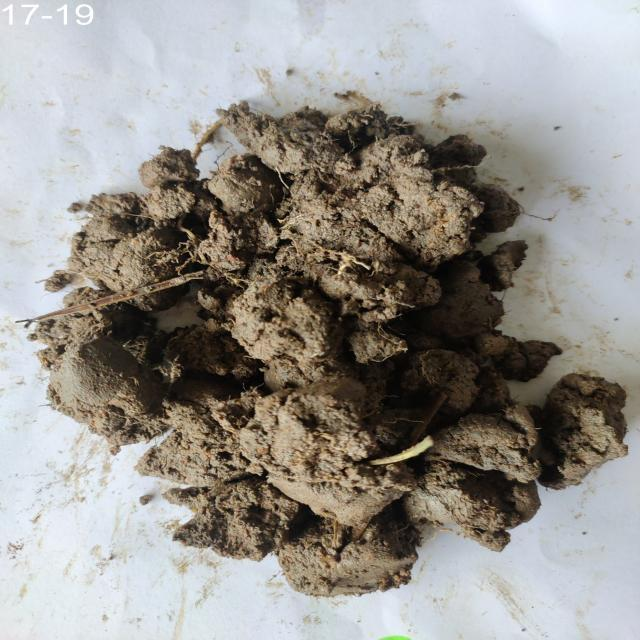soil: (166, 181, 466, 518)
